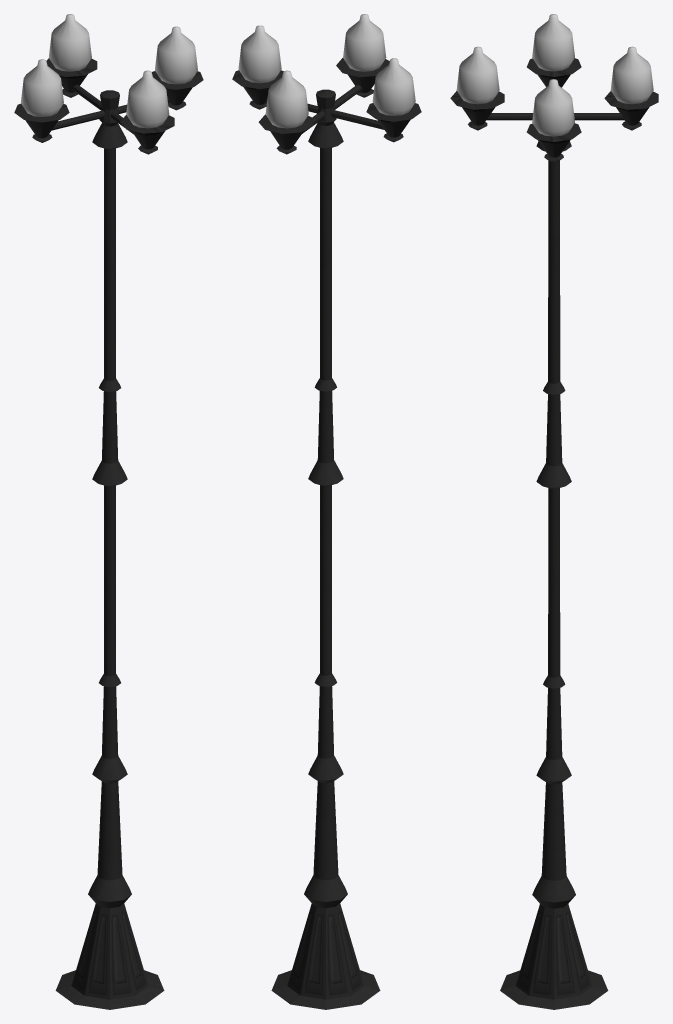
Rendered from D_lamppost_4x_park_long.FBX.
3 views of the same model, side by side, from view 1: azimuth 30°, elevation 25°; view 2: azimuth 150°, elevation 25°; view 3: azimuth 270°, elevation 25° (orthographic).
Parts seen in each view (by area): view 1: Object167; view 2: Object167; view 3: Object167.
Part boxes in pixels (x1,y1,x2,y2): Object167: (14, 14, 203, 1009); Object167: (232, 14, 421, 1009); Object167: (450, 14, 658, 1009).
Size of the model in its own units: 3.53 by 3.53 by 17.56.
